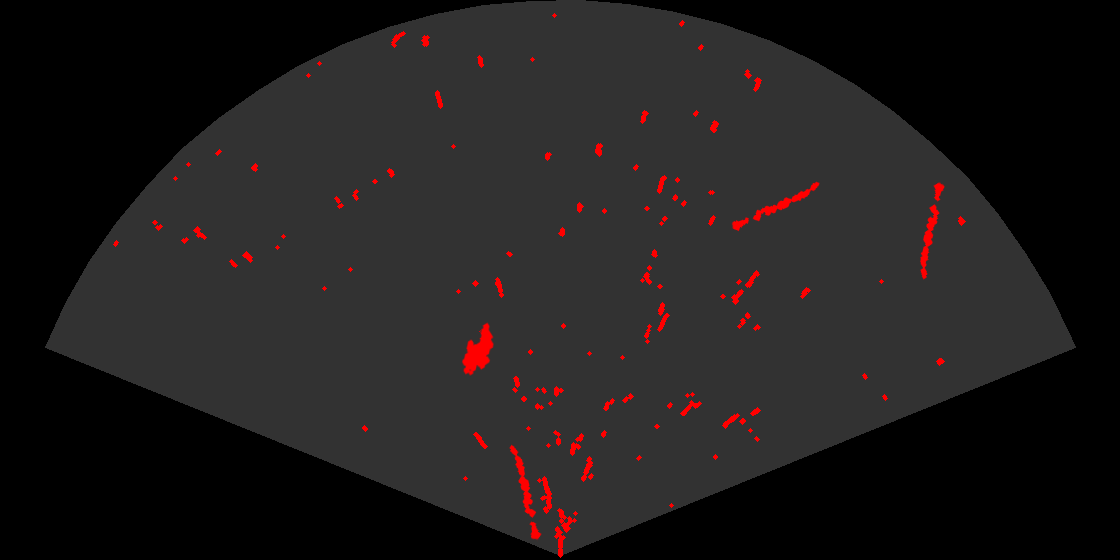AUV: (460, 321, 495, 377)
chain: (730, 180, 821, 233), (508, 443, 543, 542), (919, 180, 946, 281)
